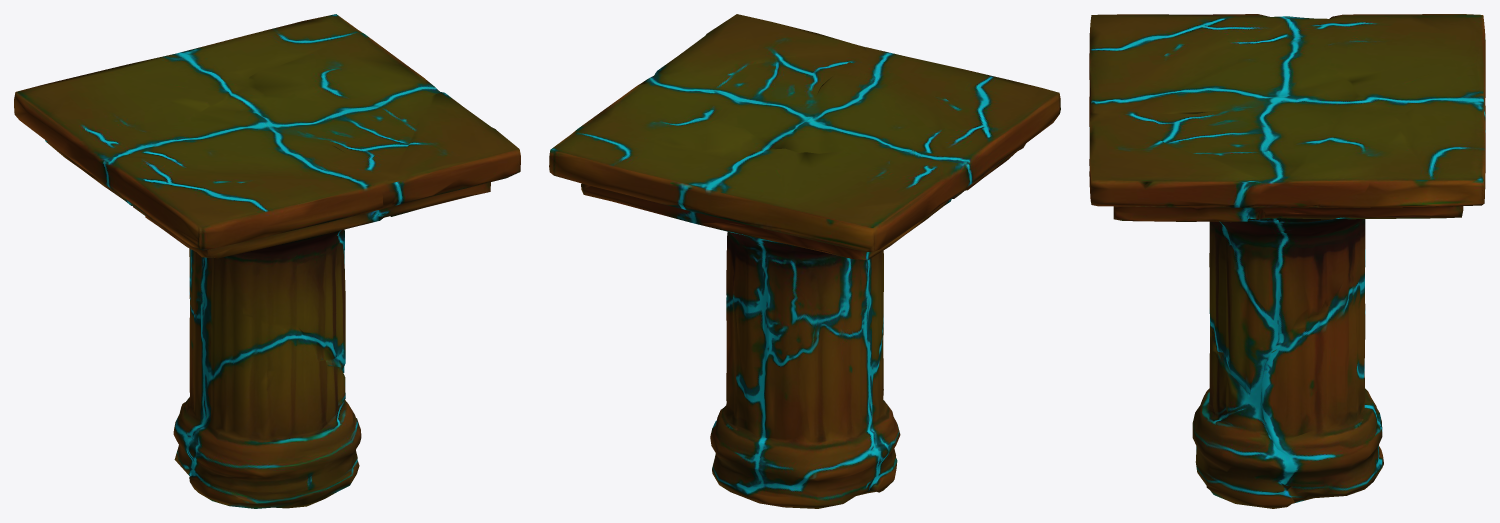
The model's file is floating+stone+pillar+3d+model.fbx.
3 renders of one model, left to right at view 1: azimuth 30°, elevation 25°; view 2: azimuth 150°, elevation 25°; view 3: azimuth 270°, elevation 25°, orthographic. The views are drawn at different scales.
Parts seen in each view (by area): view 1: tripo_node_806f9cae; view 2: tripo_node_806f9cae; view 3: tripo_node_806f9cae.
Boxes of the visible parts, x1,y1,x2,y2 form: tripo_node_806f9cae: (14, 14, 520, 508); tripo_node_806f9cae: (549, 14, 1060, 508); tripo_node_806f9cae: (1089, 14, 1485, 508).
Size of the model in its own units: 0.9537 by 1 by 0.9468.
Materials: 1 (1 with a texture image).
